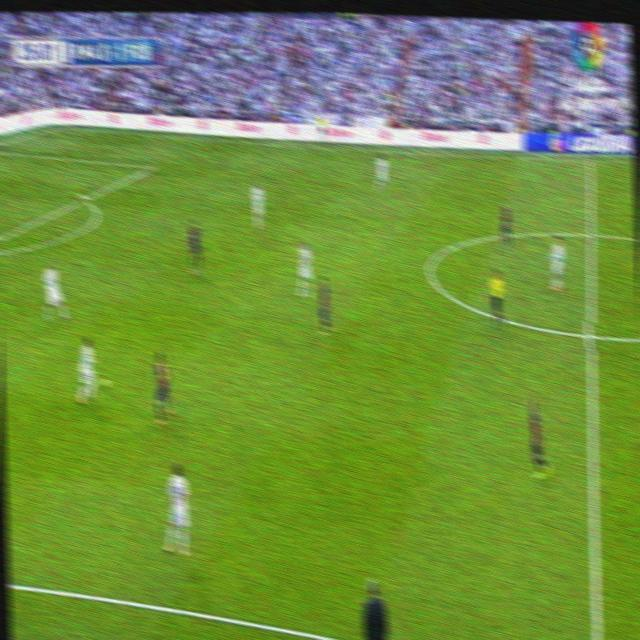bigarea_bottom_outter: (78, 190, 90, 207)
halfcircle_bottom: (584, 321, 600, 349)
halfcircle_top: (584, 221, 598, 245)
midline_top_intersection: (584, 152, 596, 168)
